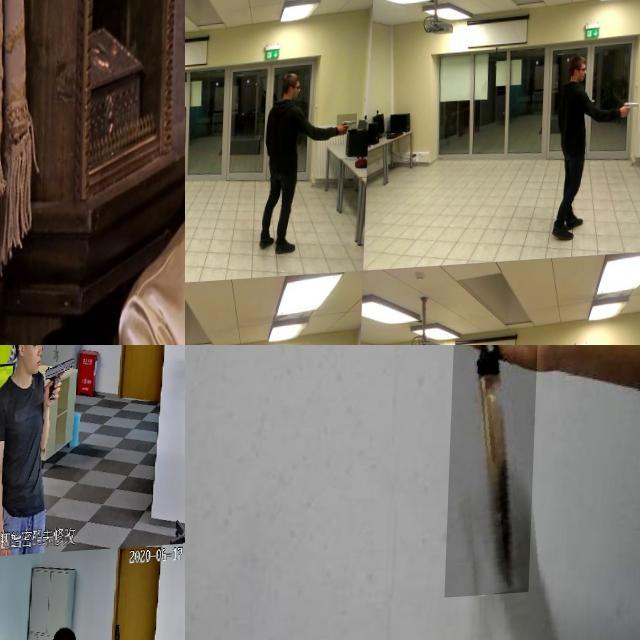-: (448, 345, 543, 603)
gun-knife-thesis - v11 Yolov5 augmented: (40, 358, 76, 403), (0, 345, 17, 380), (621, 101, 640, 130), (338, 118, 359, 140)
